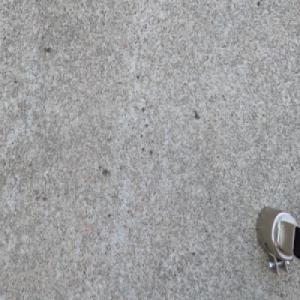MetalPart: (255, 204, 300, 278)
